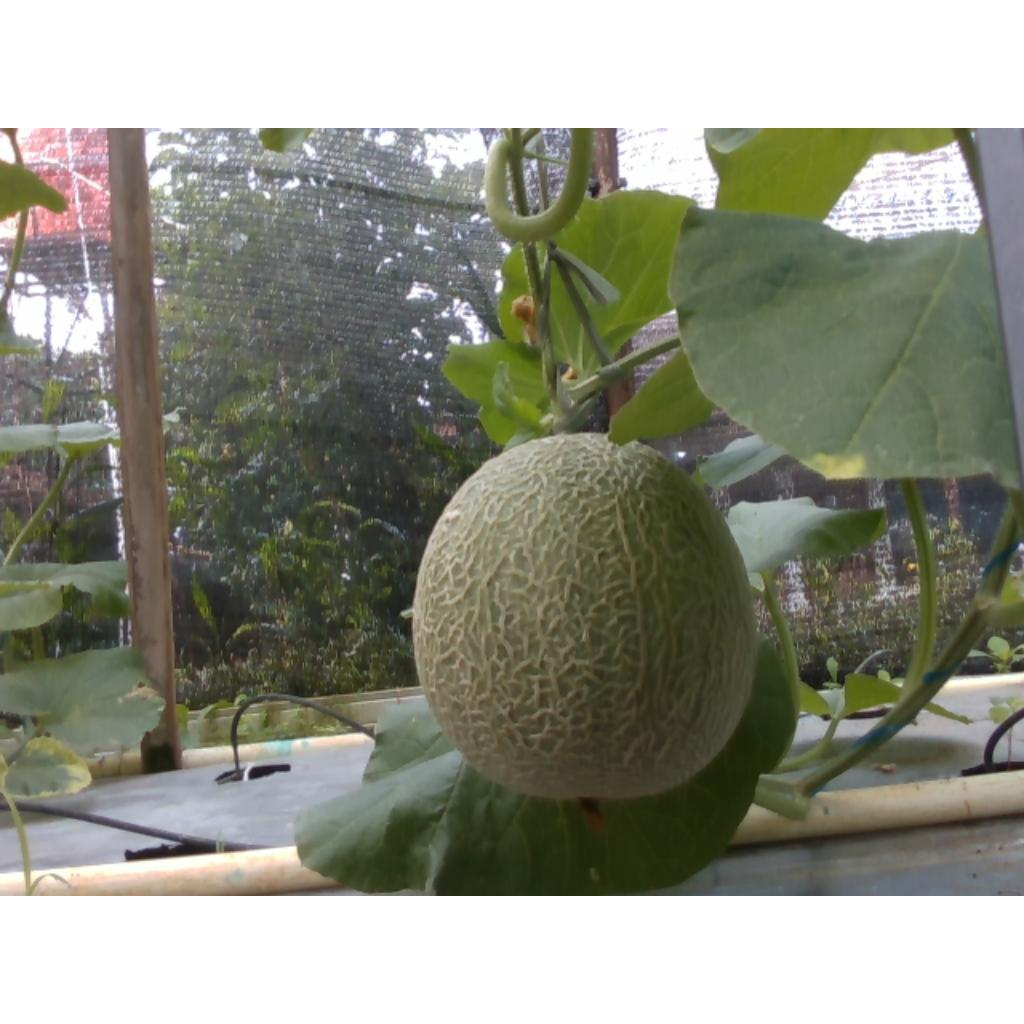melon: (414, 434, 758, 799)
